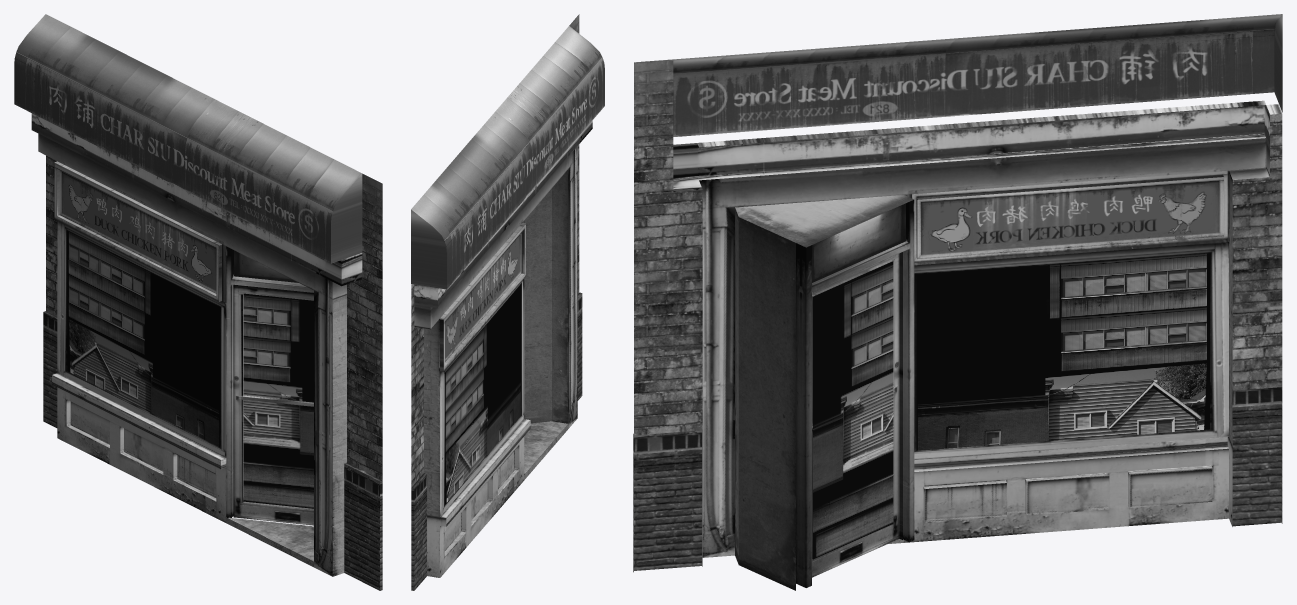
File: chinatown_butcher.fbx
The picture shows the model from 3 angles, left to right: view 1: azimuth 30°, elevation 25°; view 2: azimuth 150°, elevation 25°; view 3: azimuth 270°, elevation 25°; orthographic projection. The views are drawn at different scales.
Visible parts, largest first — view 1: chinatown_butcher, butcher_windows; view 2: chinatown_butcher, butcher_windows; view 3: chinatown_butcher, butcher_windows.
Part boxes in pixels (left/top/right/bottom): chinatown_butcher: left=14, top=14, right=382, bottom=590; butcher_windows: left=67, top=231, right=313, bottom=508; chinatown_butcher: left=411, top=14, right=604, bottom=590; butcher_windows: left=445, top=284, right=521, bottom=504; chinatown_butcher: left=633, top=14, right=1282, bottom=590; butcher_windows: left=813, top=253, right=1209, bottom=559.
Bounding box in the file's own units: 240 × 618 × 713.
